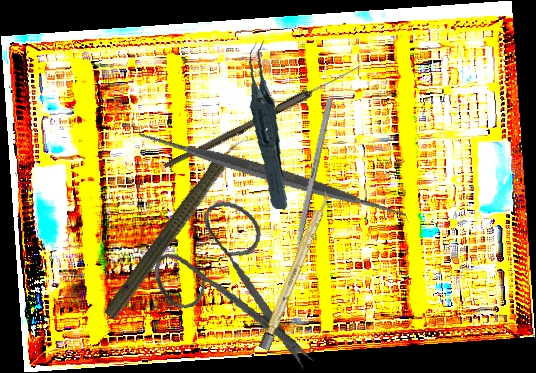Handpiece: (99, 124, 258, 326)
Iris Scissors: (142, 191, 339, 373)
Pusher: (287, 98, 333, 283)
Scalpel Handle: (258, 190, 333, 351)
Spatula Surgical: (134, 38, 412, 313)
Surgical Spoon: (163, 60, 363, 174)
Tissue Forceps: (236, 39, 303, 210)
